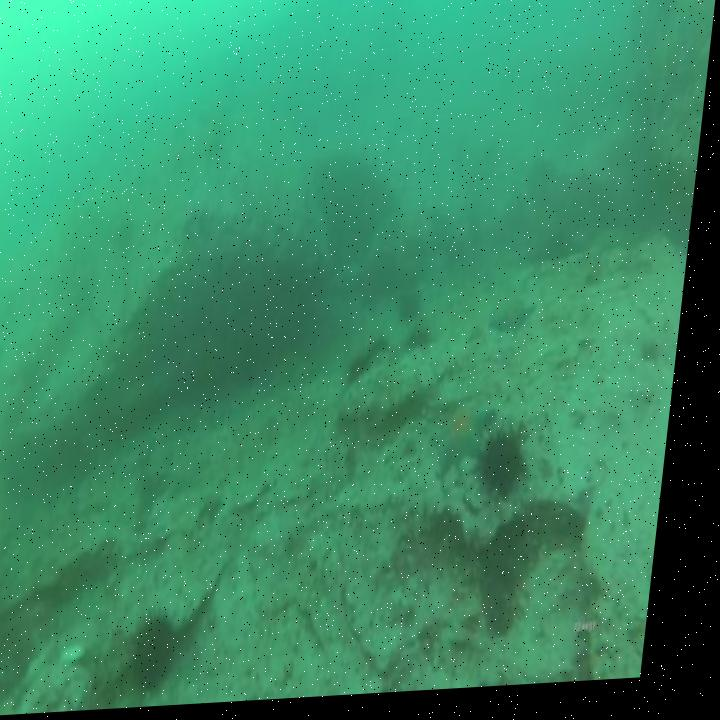echinus: (136, 613, 203, 698), (485, 428, 541, 516), (350, 351, 386, 398), (403, 290, 432, 336)
holothurian: (486, 500, 607, 647)
starfish: (436, 410, 510, 486), (495, 297, 546, 349)
